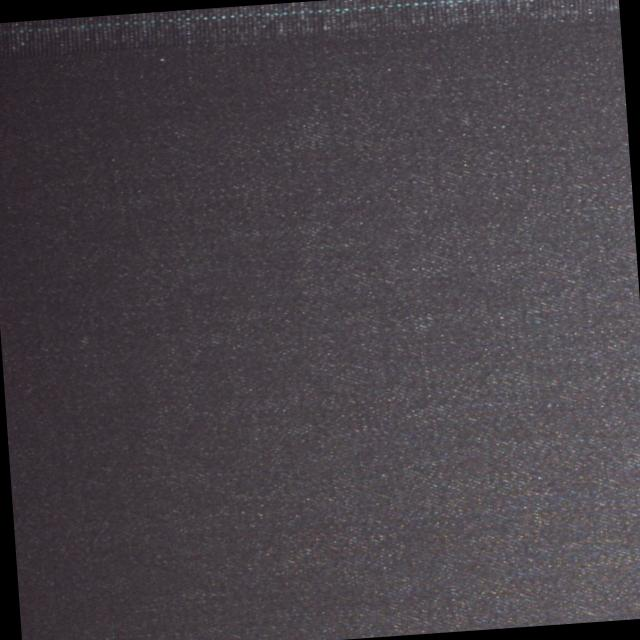Warp_Weft: (0, 0, 615, 41)
